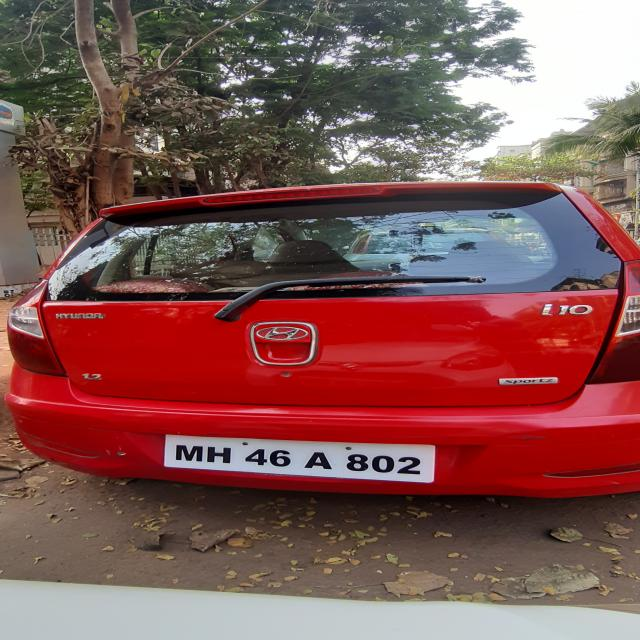Number-Plate: (167, 439, 429, 480)
